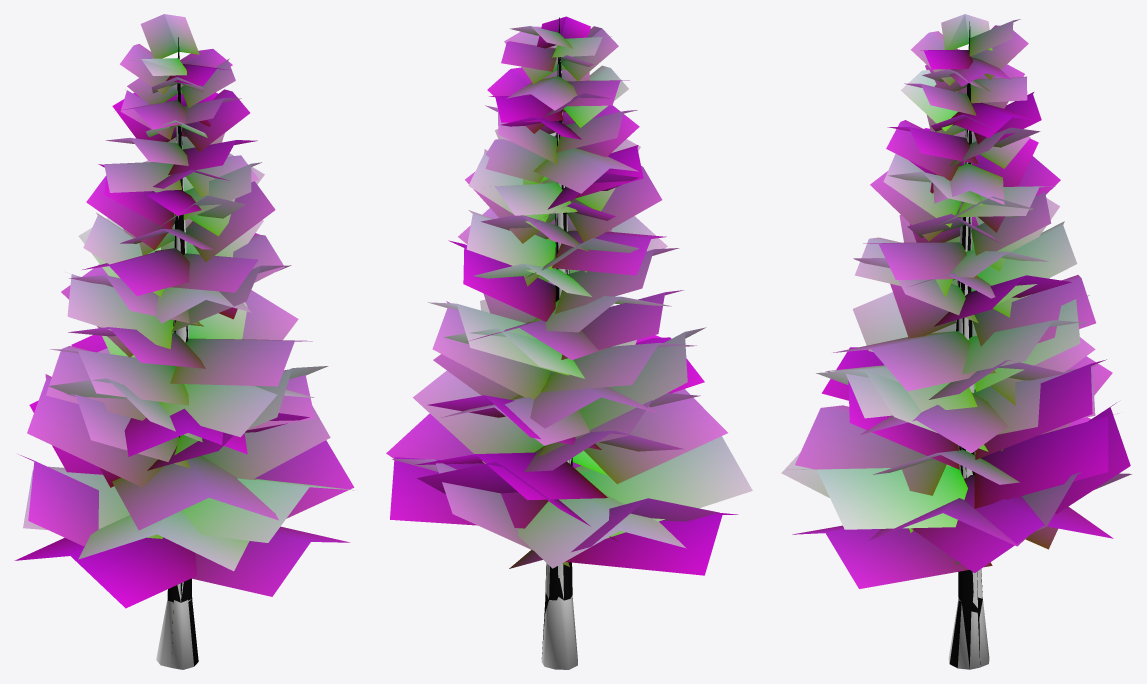
File: fir_01_15m_b.dae
The picture shows the model from 3 angles, left to right: view 1: azimuth 30°, elevation 25°; view 2: azimuth 150°, elevation 25°; view 3: azimuth 270°, elevation 25°; orthographic projection. The views are drawn at different scales.
Parts seen in each view (by area): view 1: fir128, colmesh-1; view 2: fir128, colmesh-1; view 3: fir128, colmesh-1.
Boxes of the visible parts, <box> form: fir128: <box>14,14,354,666</box>; colmesh-1: <box>156,91,193,669</box>; fir128: <box>386,16,752,658</box>; colmesh-1: <box>541,61,577,669</box>; fir128: <box>781,14,1131,668</box>; colmesh-1: <box>948,129,989,669</box>.
Size of the model in its own units: 7.73 by 7.45 by 15.25.
